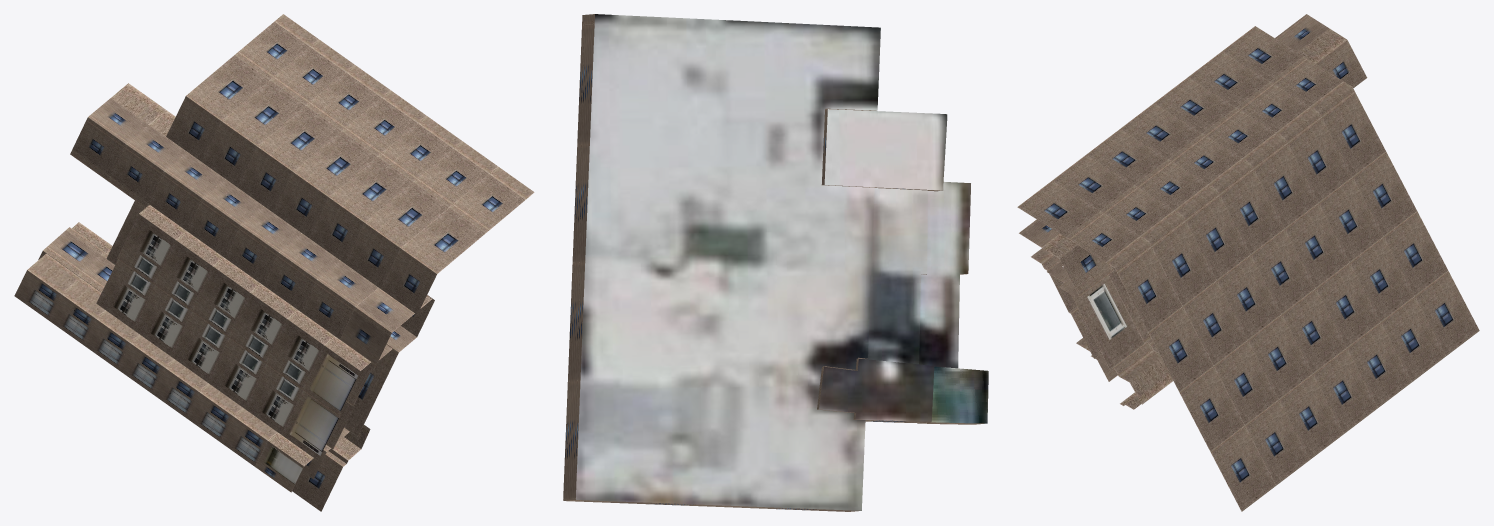
3 views of the same model, side by side, from view 1: azimuth 30°, elevation 25°; view 2: azimuth 150°, elevation 25°; view 3: azimuth 270°, elevation 25° (orthographic). The views are drawn at different scales.
Size of the model in its own units: 33.46 by 32.3 by 34.2.
16 materials, 16 textured.
